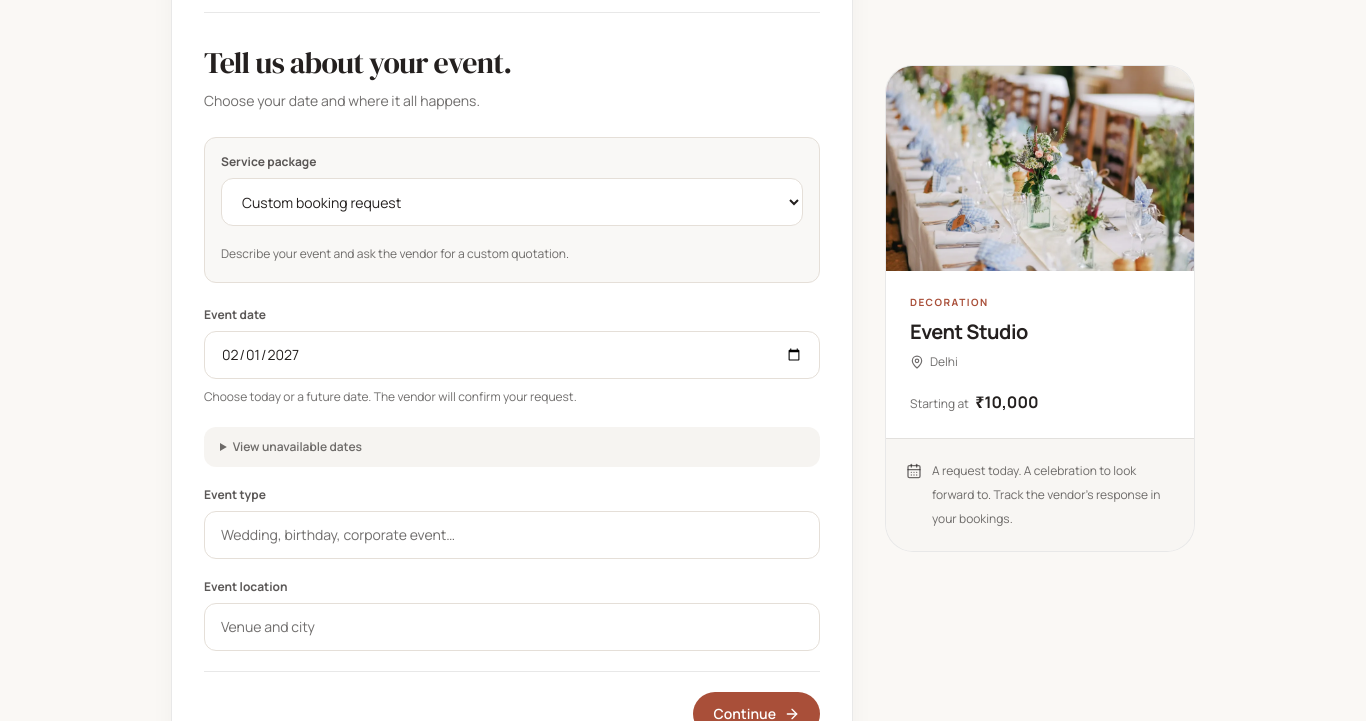
Test: booking request › sends only one request while submission is pending
Earlier steps of the test are not shown.
Later steps or results of the test are not shown.
(page scrolled)
Type "Wedding" into the field labelled "Event type" at (512, 535), box [204,511,820,559]
Type "Venue, Delhi" into the field labelled "Event location" at (512, 627), box [204,603,820,651]
(page scrolled)
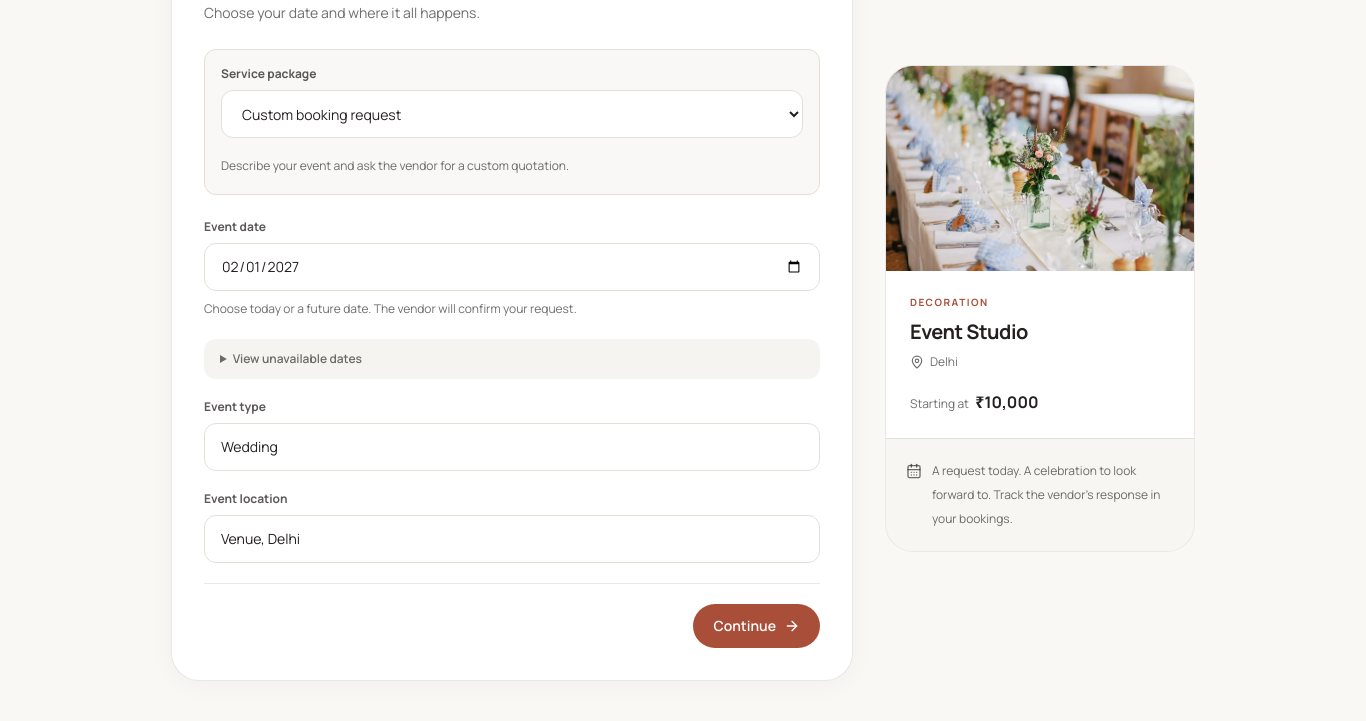
Click the button "Continue" at (757, 626), box [693,604,820,648]
(page scrolled)
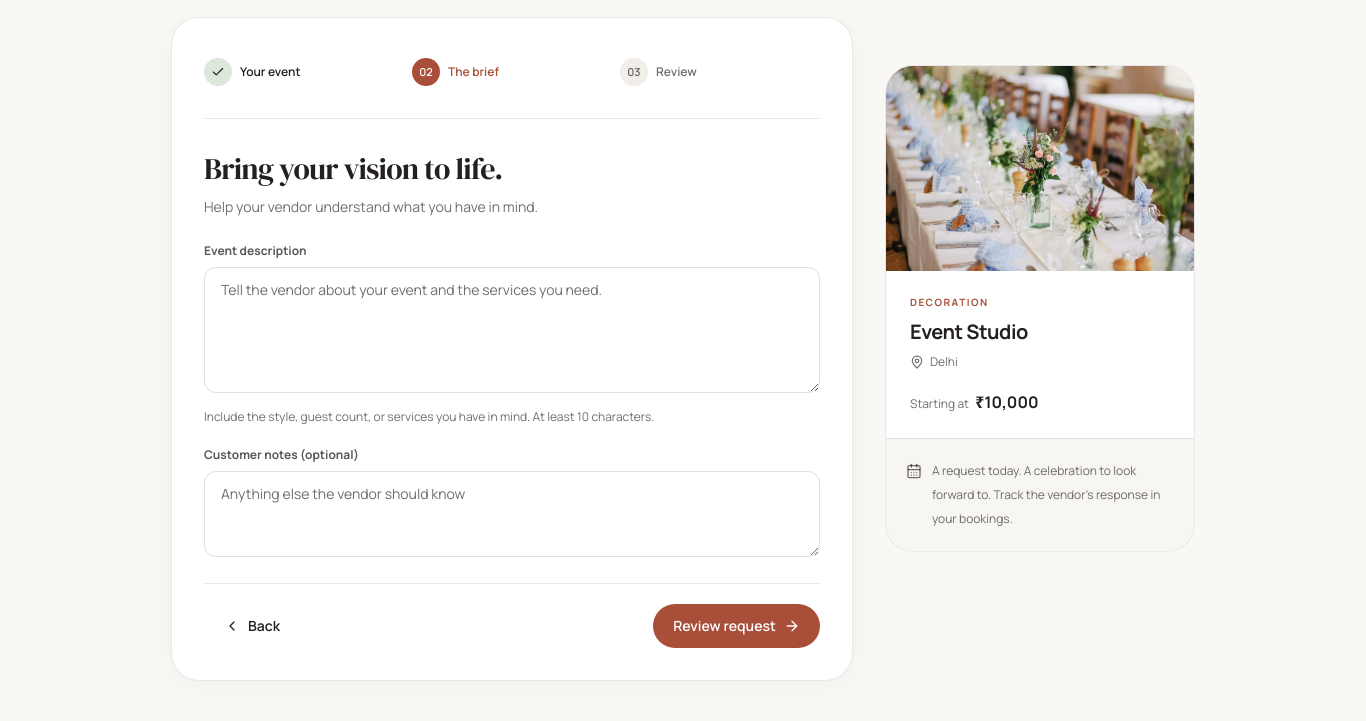
Type "Decorate the wedding venue." into the text box labelled "Event description" at (512, 330), box [204,267,820,393]
Type "Use seasonal flowers." into the text box labelled "Customer notes (optional)" at (512, 514), box [204,471,820,557]
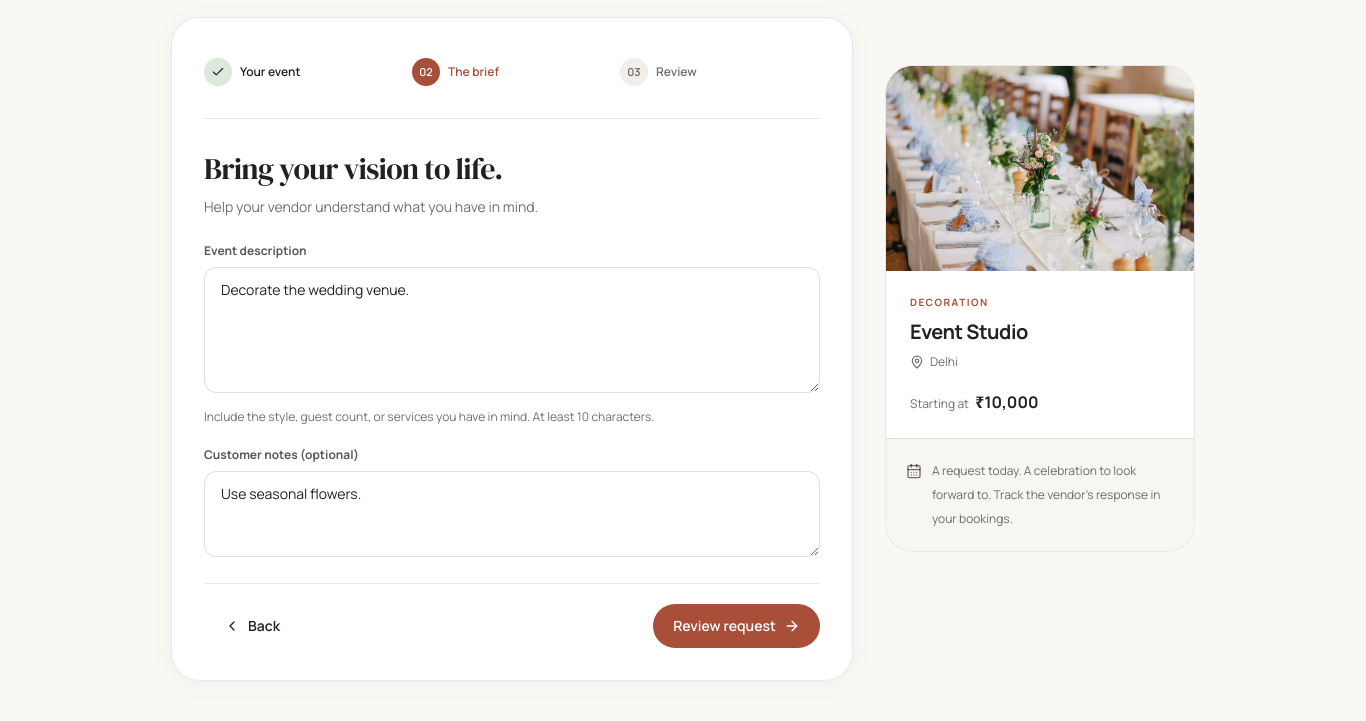
Click the button "Review request" at (737, 626), box [653,604,820,648]
(page scrolled)
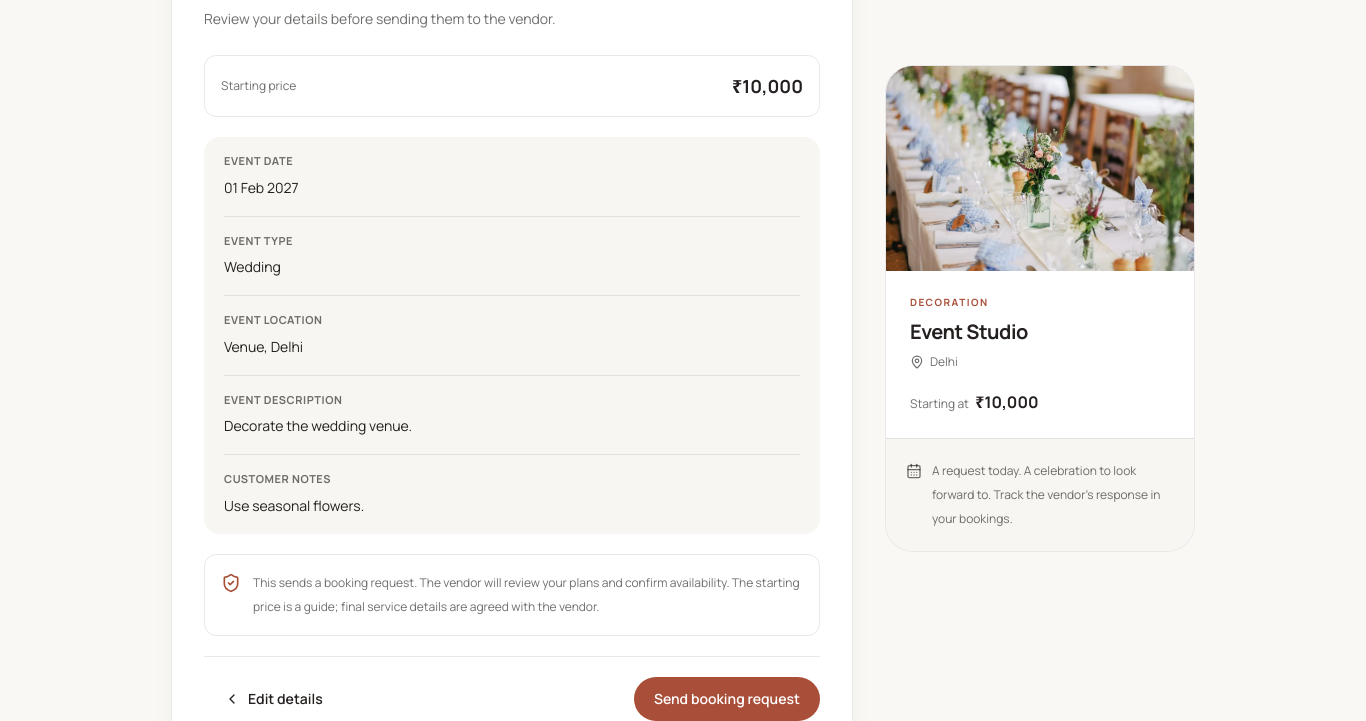
Submit the form named "Send booking request", box [204,55,820,720]
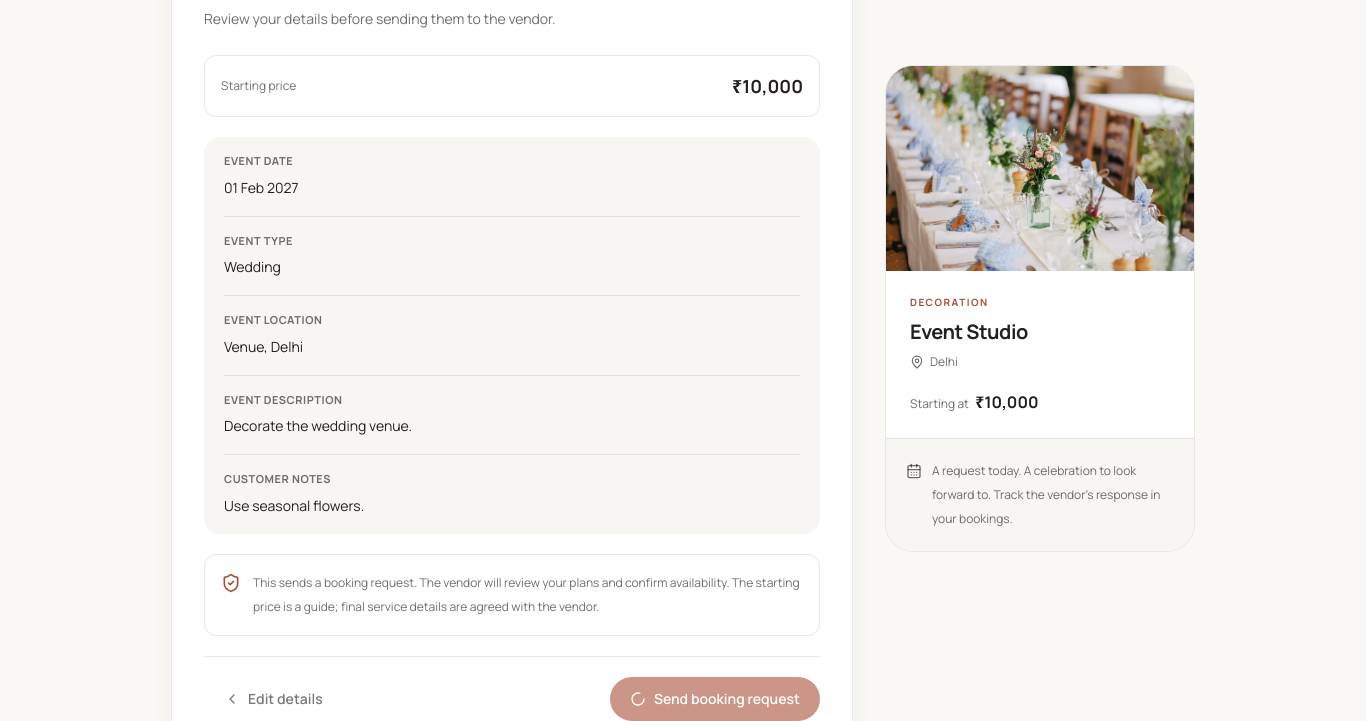
Submit the form named "Send booking request", box [204,55,820,720]
(page scrolled)
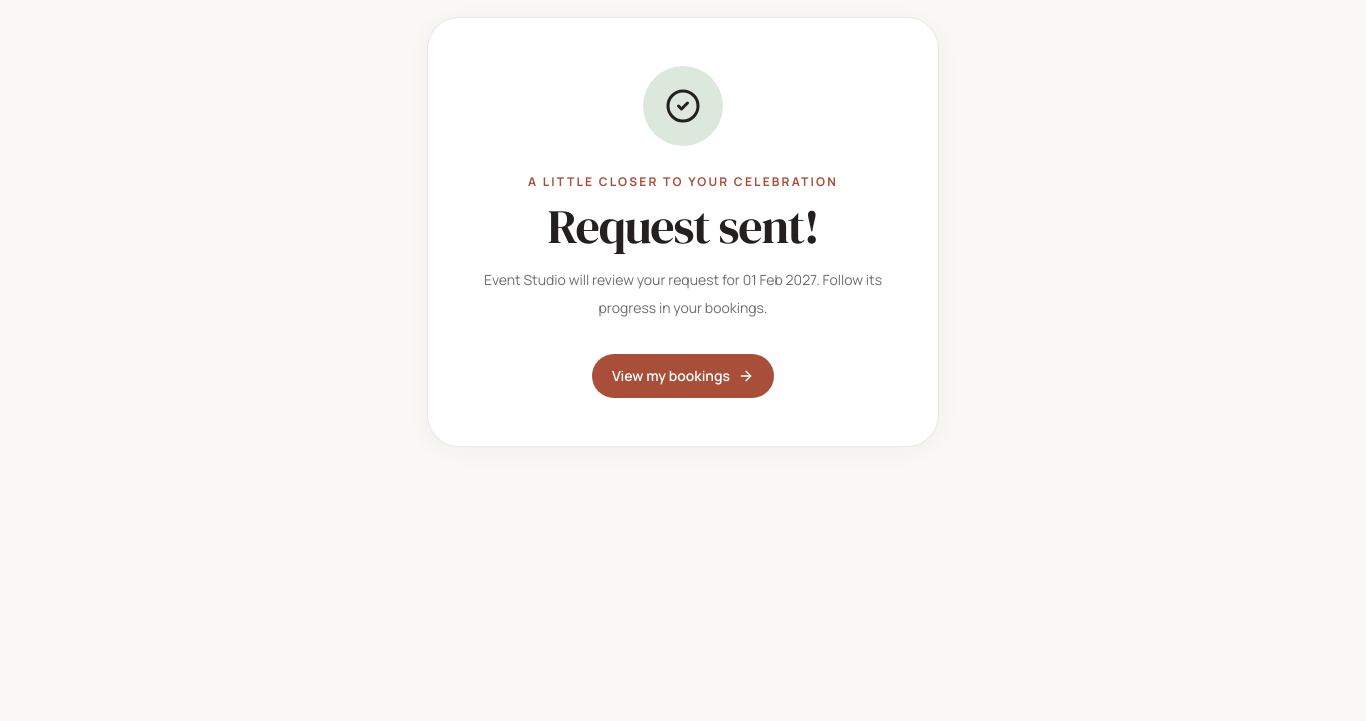
Expected: the heading "Request sent!" is shown, [547,193,819,259]
